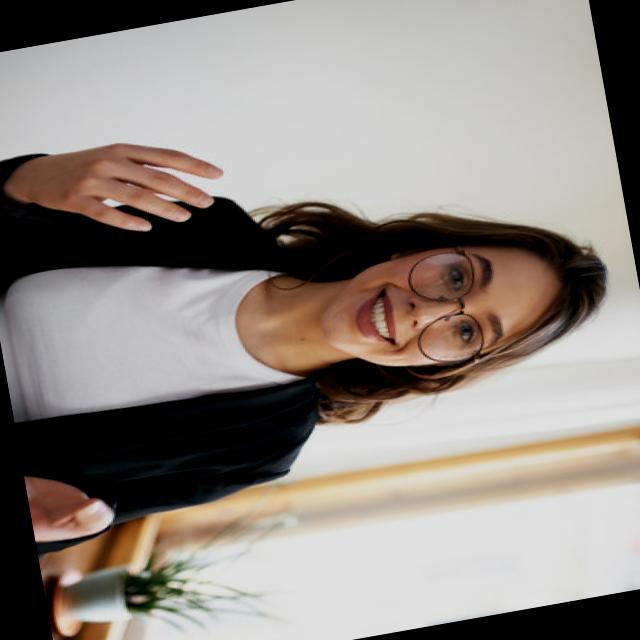Hand: (0, 111, 242, 258)
